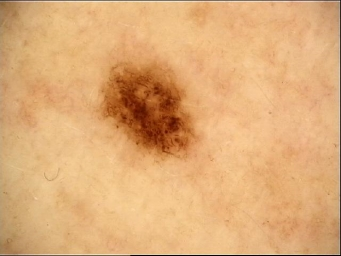nevus: (100, 63, 197, 159)
